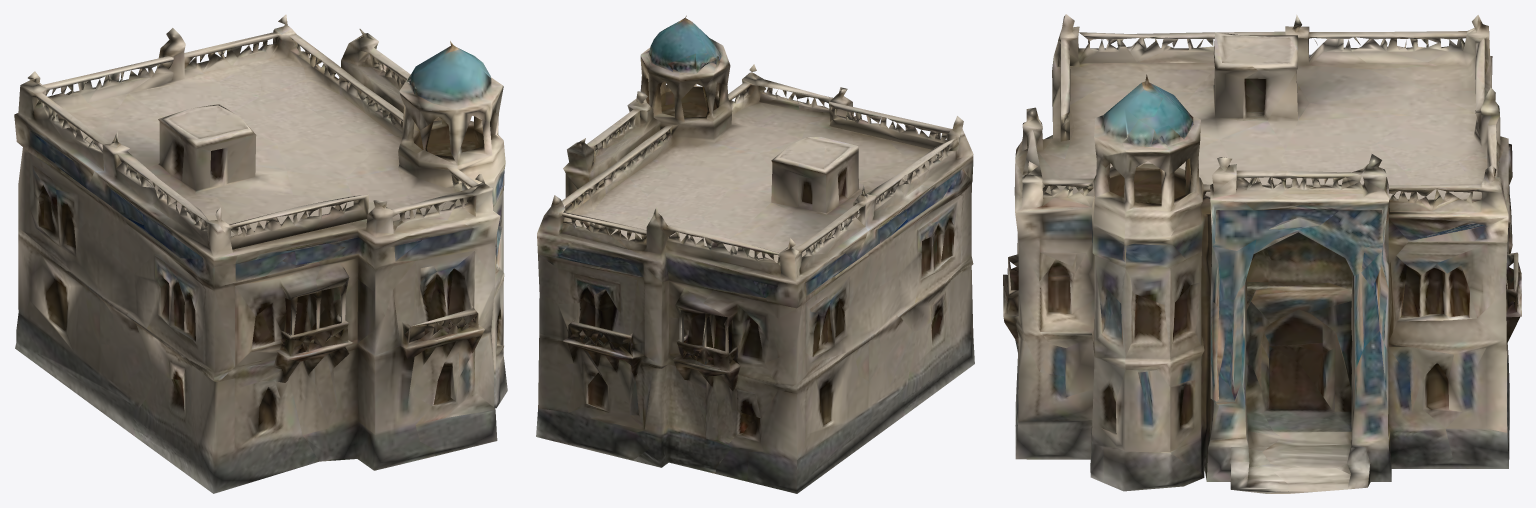
Rendered from house_noble_2.glb.
The picture shows the model from 3 angles, left to right: view 1: azimuth 30°, elevation 25°; view 2: azimuth 150°, elevation 25°; view 3: azimuth 270°, elevation 25°; orthographic projection. The views are drawn at different scales.
Parts seen in each view (by area): view 1: tripo_node_f6b4daa0-9f50-4762-b463-21bb5ce32393; view 2: tripo_node_f6b4daa0-9f50-4762-b463-21bb5ce32393; view 3: tripo_node_f6b4daa0-9f50-4762-b463-21bb5ce32393.
Boxes of the visible parts, left/top/right/bottom form: tripo_node_f6b4daa0-9f50-4762-b463-21bb5ce32393: left=14, top=14, right=507, bottom=493; tripo_node_f6b4daa0-9f50-4762-b463-21bb5ce32393: left=536, top=15, right=974, bottom=493; tripo_node_f6b4daa0-9f50-4762-b463-21bb5ce32393: left=1003, top=14, right=1521, bottom=493.
Bounding box in the file's own units: 0.7993 × 0.8166 × 0.979.
Materials: 1 (1 with a texture image).
